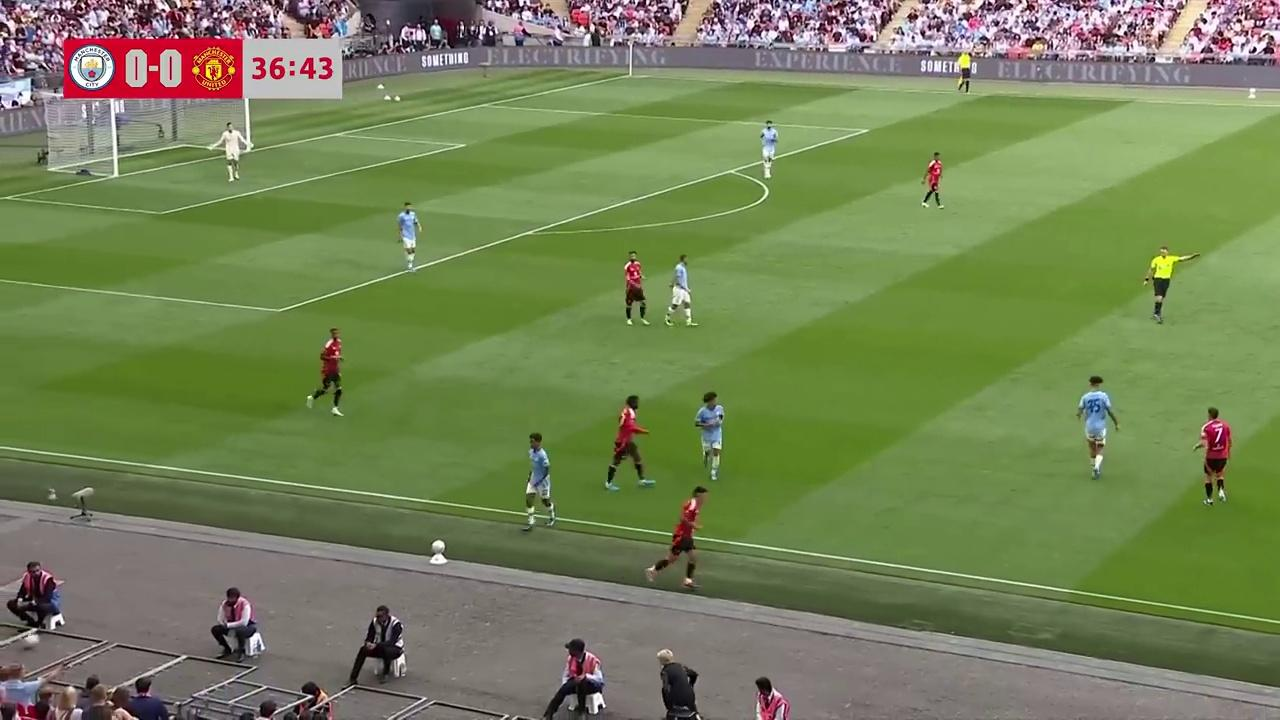player: (645, 484, 707, 584), (603, 395, 653, 491), (1076, 375, 1119, 479), (1192, 407, 1232, 506), (305, 327, 345, 415), (523, 433, 556, 529), (694, 390, 724, 480), (664, 253, 697, 328), (623, 250, 649, 325), (396, 201, 423, 271), (215, 121, 243, 180), (920, 151, 944, 210), (760, 120, 778, 176)
referee: (1143, 244, 1187, 323), (955, 49, 972, 93)
